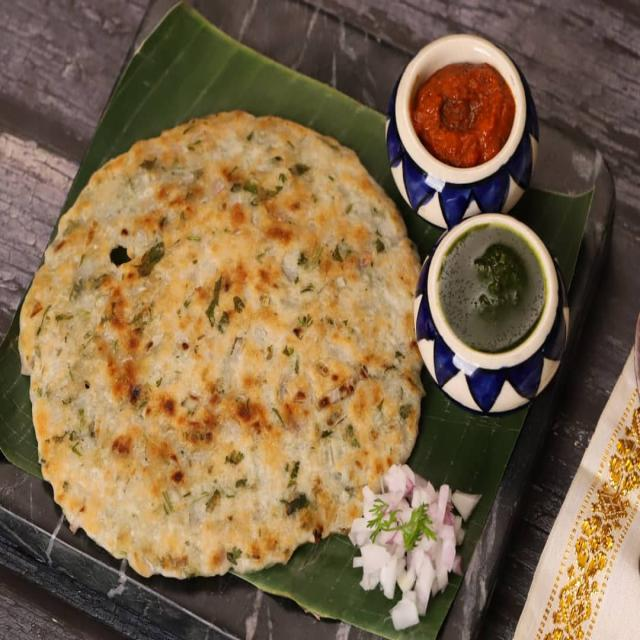ROTI: (30, 116, 422, 576)
